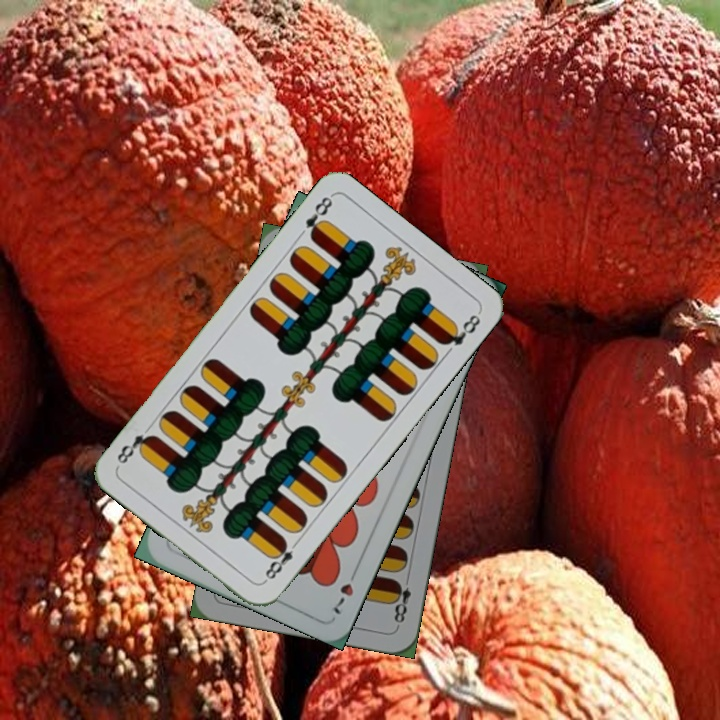E8: (259, 536, 302, 585), (301, 191, 336, 242), (388, 571, 414, 629)
H7: (329, 563, 361, 618)
